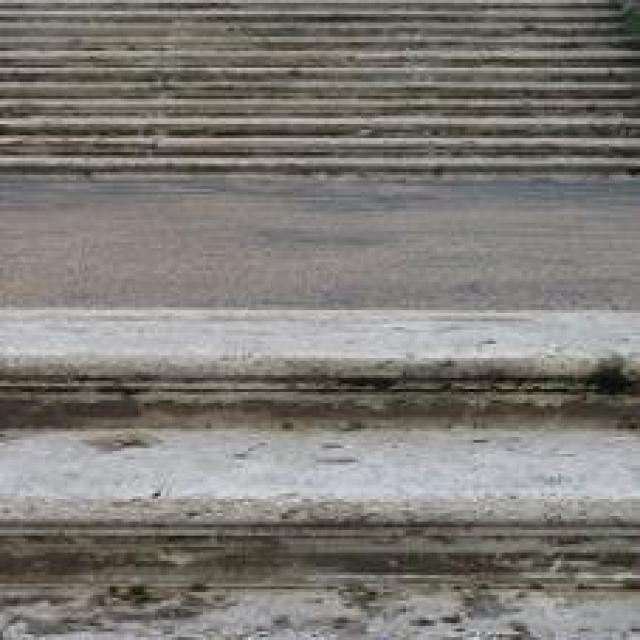upstair: (49, 323, 545, 571)
